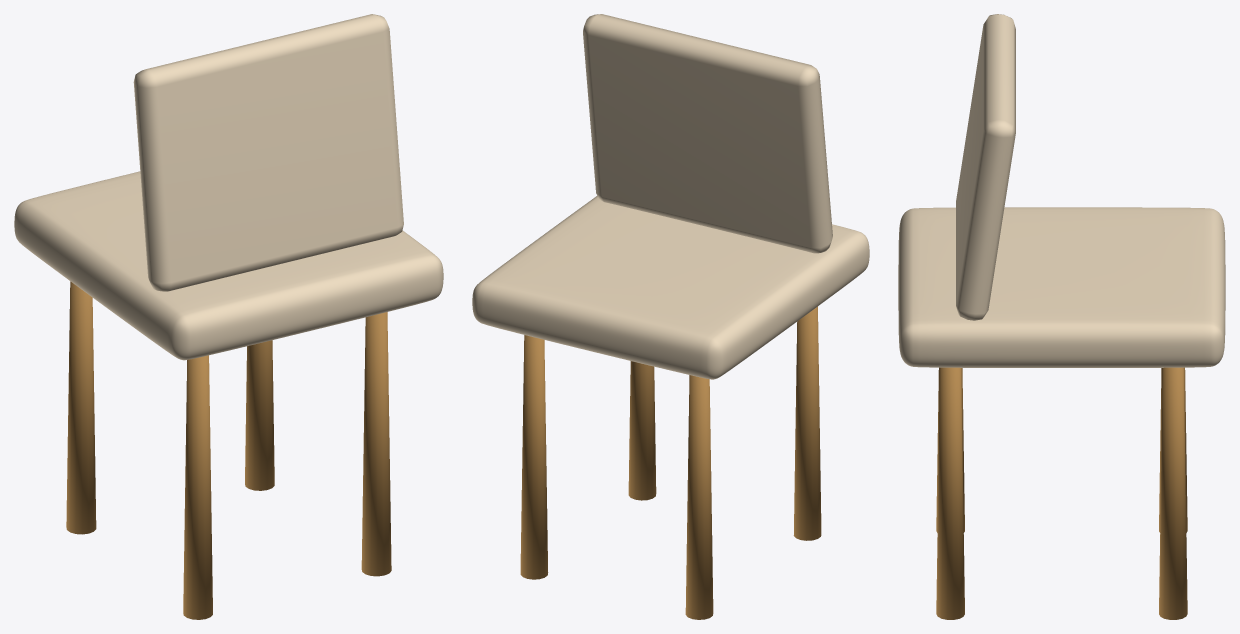
File: chair.glb
The picture shows the model from 3 angles, left to right: view 1: azimuth 30°, elevation 25°; view 2: azimuth 150°, elevation 25°; view 3: azimuth 270°, elevation 25°; orthographic projection. The views are drawn at different scales.
Parts seen in each view (by area): view 1: leg; view 2: leg; view 3: leg.
Boxes of the visible parts, <box> form: leg: <box>14,14,443,619</box>; leg: <box>472,14,869,619</box>; leg: <box>898,14,1225,619</box>.
Bounding box in the file's own units: 0.4596 × 0.8518 × 0.4996.
